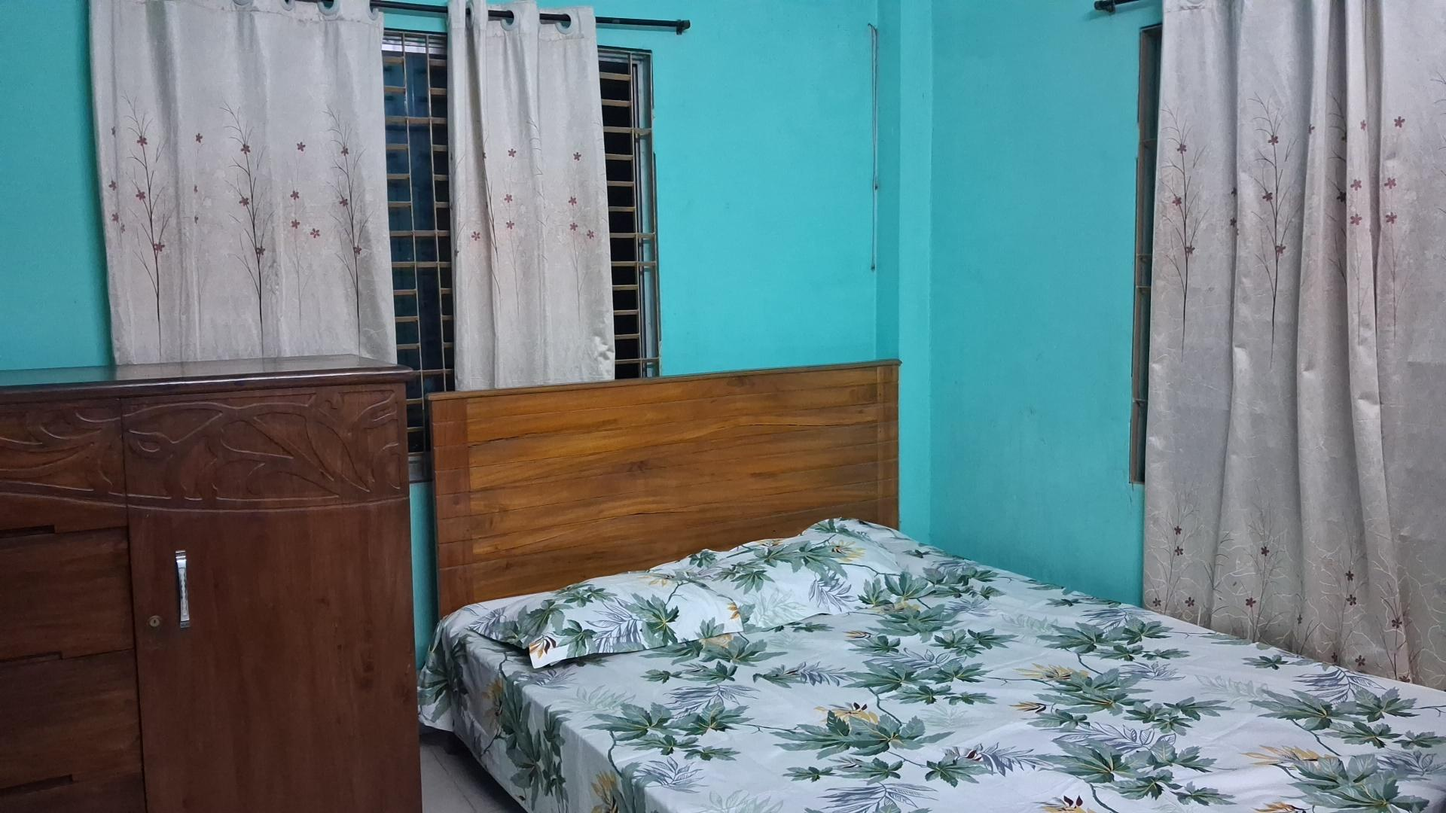Pillow: (485, 588, 746, 665), (664, 543, 939, 610)
Window: (383, 28, 660, 387)
